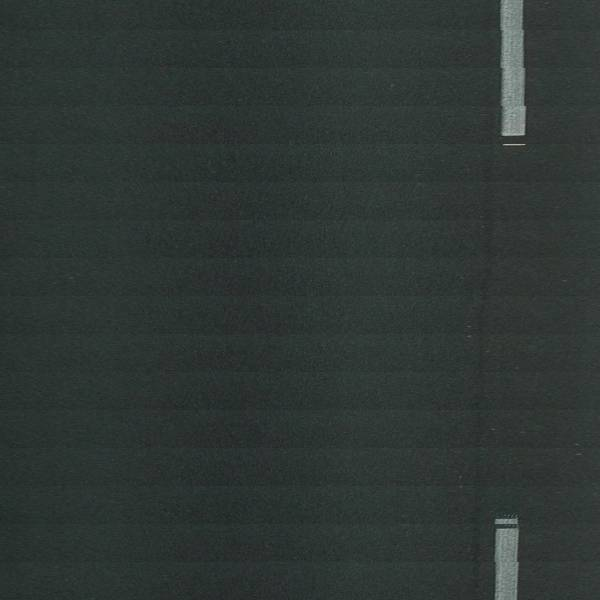road_damage: (461, 169, 497, 572)
